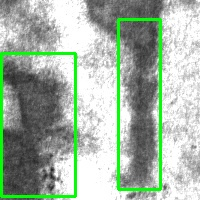patches: (1, 53, 75, 196), (118, 19, 160, 189), (86, 1, 159, 45)
